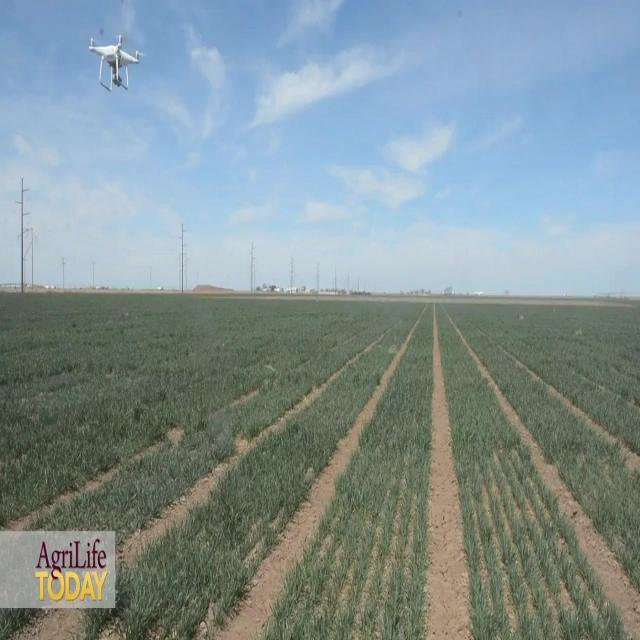UAV: (88, 28, 144, 92)
